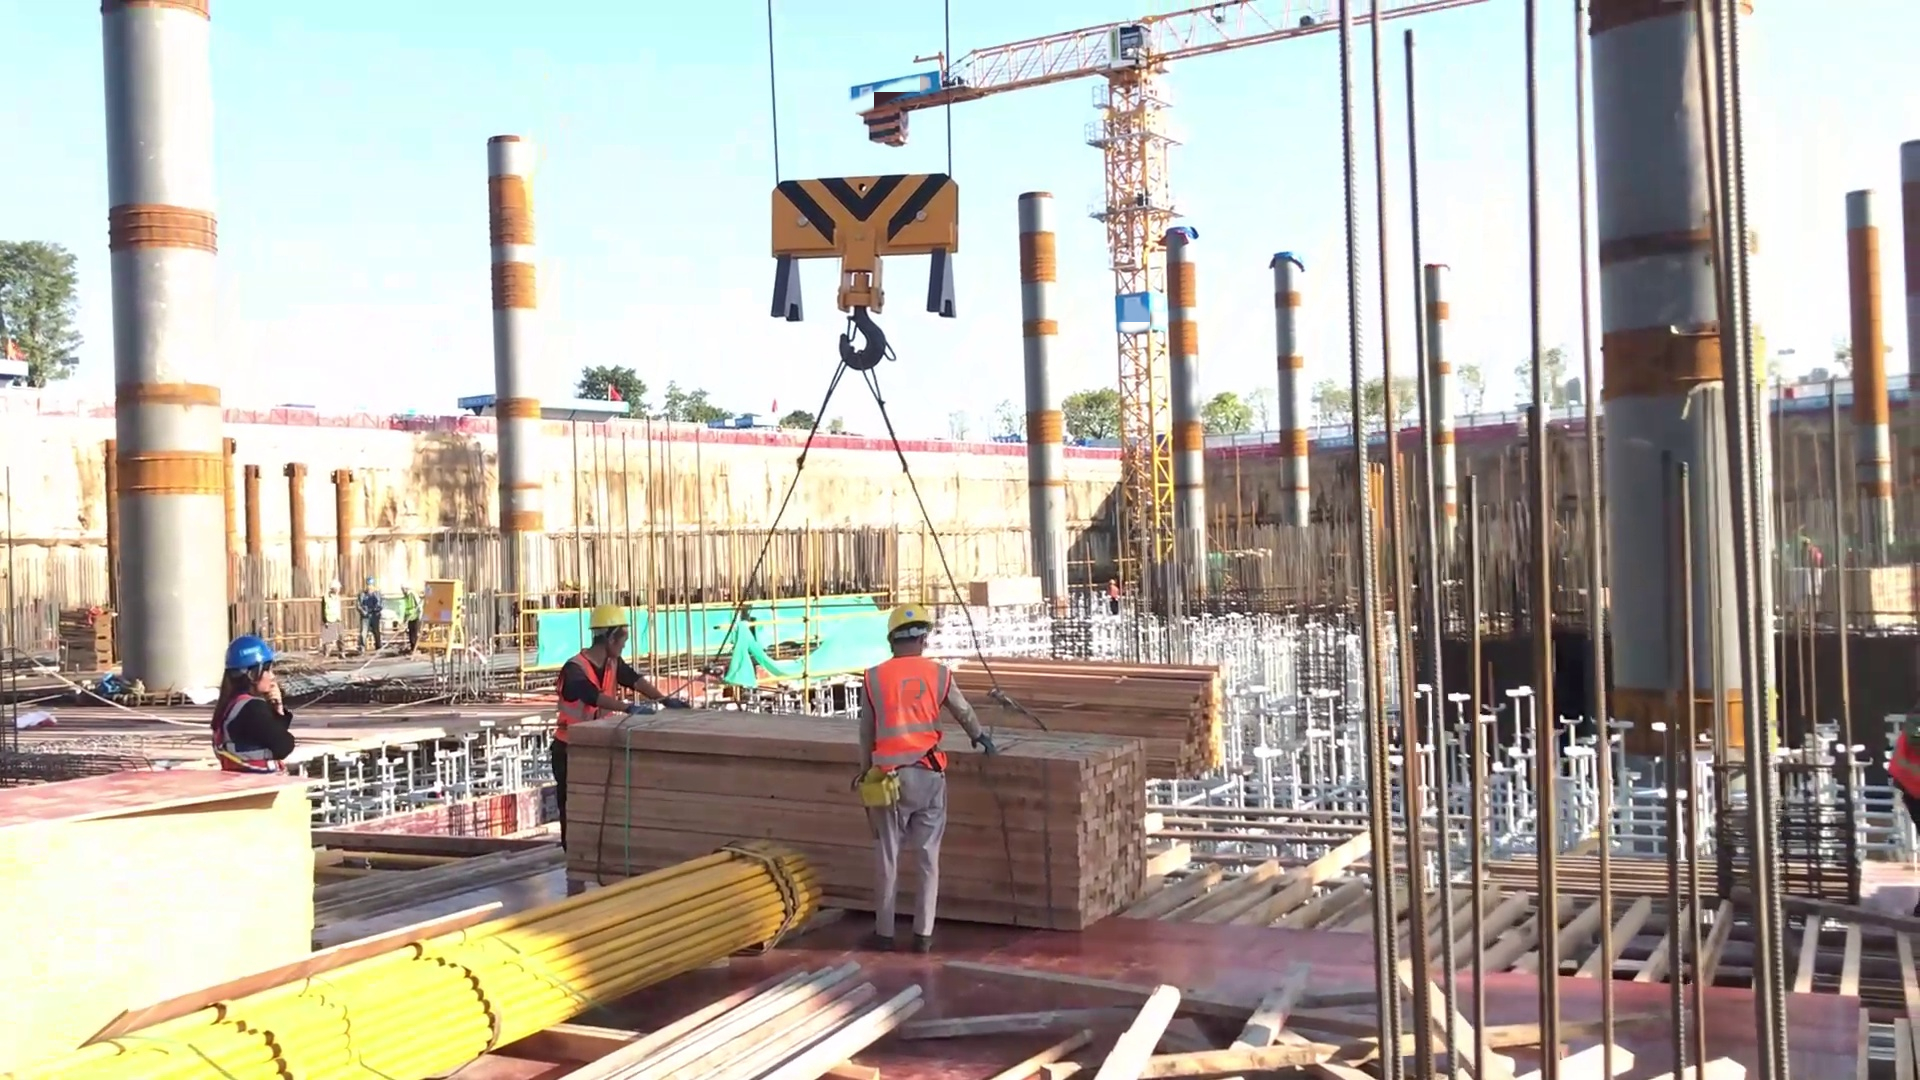ebox: (417, 565, 471, 660)
helmet: (865, 595, 933, 643), (211, 631, 274, 674), (589, 595, 627, 635)
hook: (761, 168, 974, 374)
person: (859, 593, 966, 958), (542, 587, 666, 889), (212, 627, 315, 770), (355, 572, 396, 647), (392, 577, 431, 654), (317, 577, 355, 656)
vest: (863, 658, 961, 773), (548, 653, 621, 745), (219, 687, 286, 772)
wood: (539, 693, 1175, 934), (933, 637, 1251, 814)
